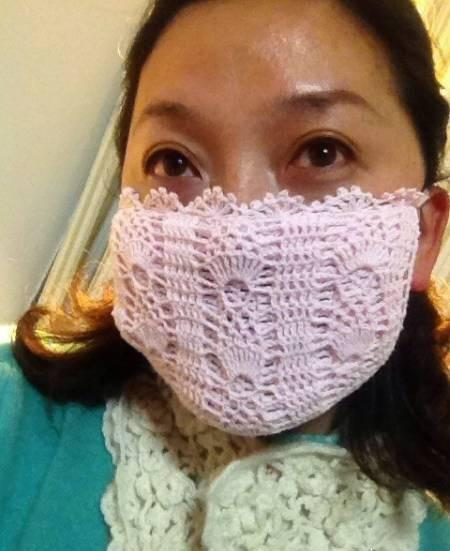WRONG: (115, 99, 429, 413)
